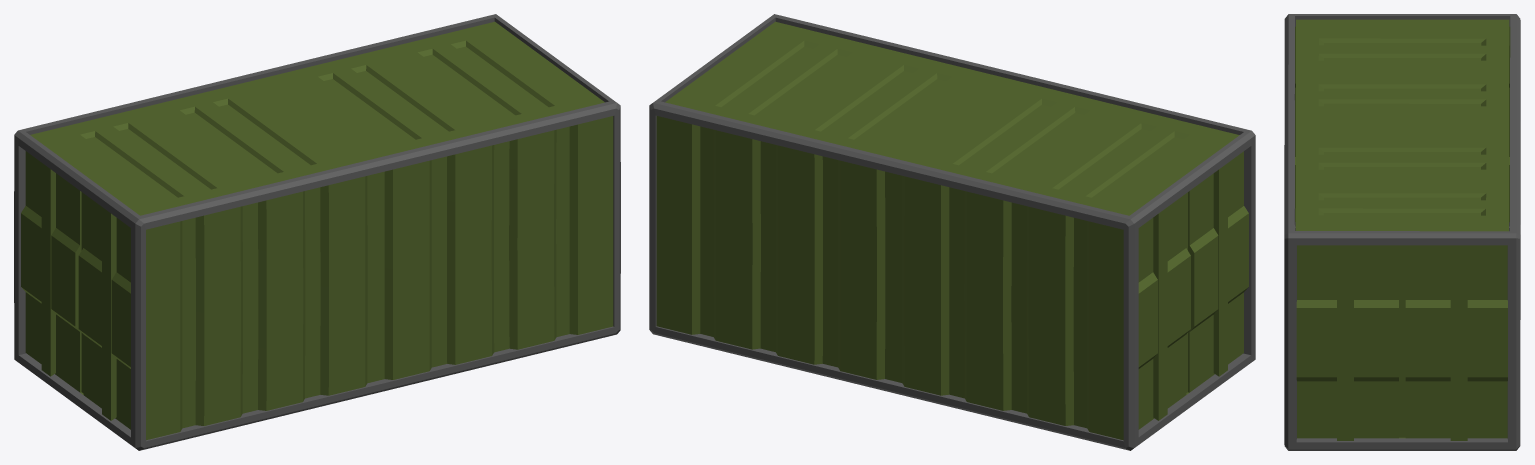
Rendered from ContainerGreen.gltf.
3 renders of one model, left to right at view 1: azimuth 30°, elevation 25°; view 2: azimuth 150°, elevation 25°; view 3: azimuth 270°, elevation 25°, orthographic. The views are drawn at different scales.
Parts seen in each view (by area): view 1: Container_Green; view 2: Container_Green; view 3: Container_Green.
Part boxes in pixels (bbox=[...]): Container_Green: bbox=[14, 14, 620, 450]; Container_Green: bbox=[649, 14, 1255, 450]; Container_Green: bbox=[1284, 14, 1520, 450].
Size of the model in its own units: 4.62 by 2.11 by 2.07.
1 material, 1 textured.
